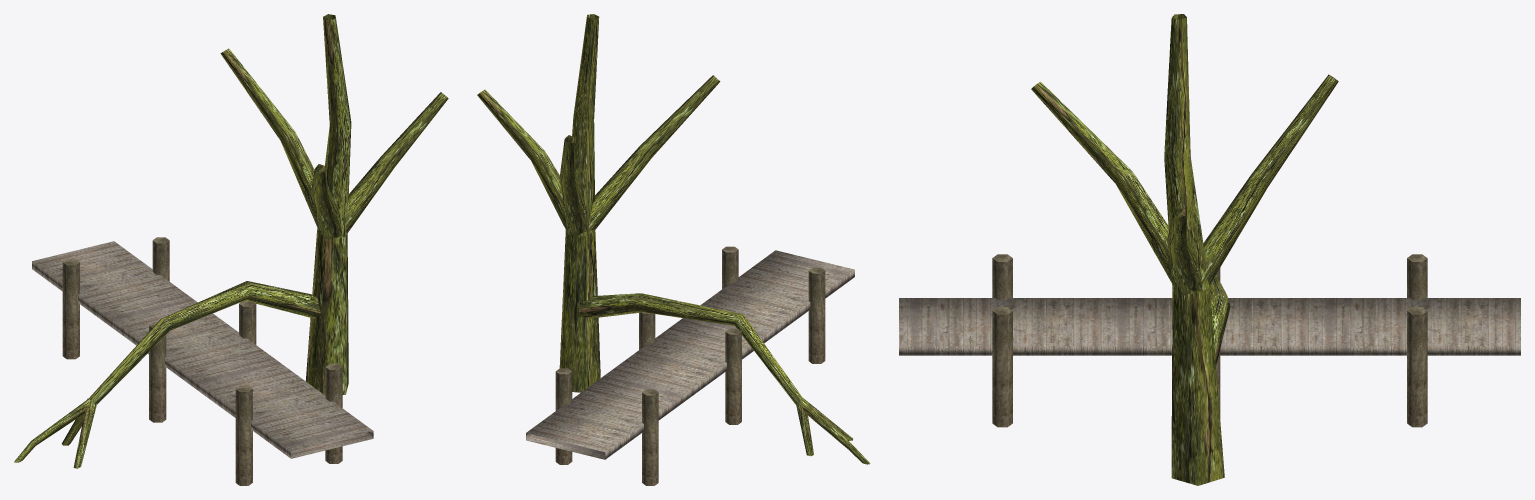
The model's file is Bridge.I-Tile.Obst.Root.fbx.
3 views of the same model, side by side, from view 1: azimuth 30°, elevation 25°; view 2: azimuth 150°, elevation 25°; view 3: azimuth 270°, elevation 25° (orthographic). The views are drawn at different scales.
Parts seen in each view (by area): view 1: Bridge.I-Tile.Obst.Root; view 2: Bridge.I-Tile.Obst.Root; view 3: Bridge.I-Tile.Obst.Root.
Boxes of the visible parts, x1,y1,x2,y2 form: Bridge.I-Tile.Obst.Root: (14,14,448,485); Bridge.I-Tile.Obst.Root: (477,14,870,485); Bridge.I-Tile.Obst.Root: (899,14,1520,485).
Size of the model in its own units: 281 by 244 by 300.
